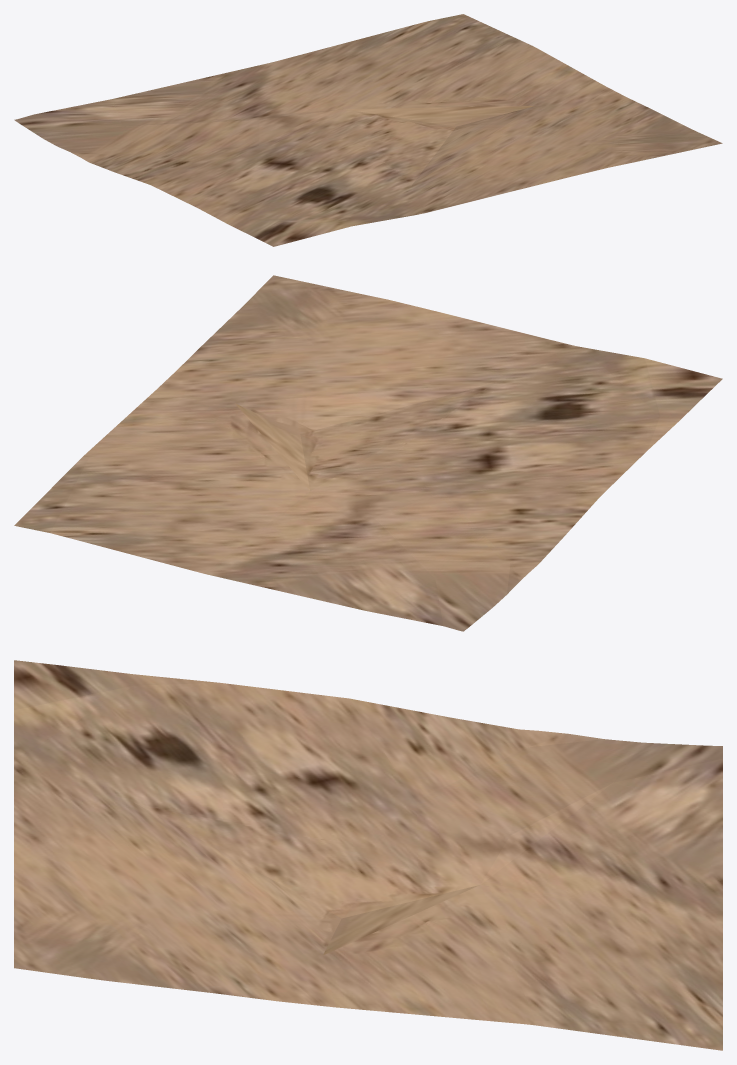
The picture shows the model from 3 angles, top to bottom: view 1: azimuth 30°, elevation 25°; view 2: azimuth 150°, elevation 25°; view 3: azimuth 270°, elevation 25°; orthographic projection. The views are drawn at different scales.
Size of the model in its own units: 2.09 by 0.3099 by 2.09.
Materials: 3 (3 with a texture image).
